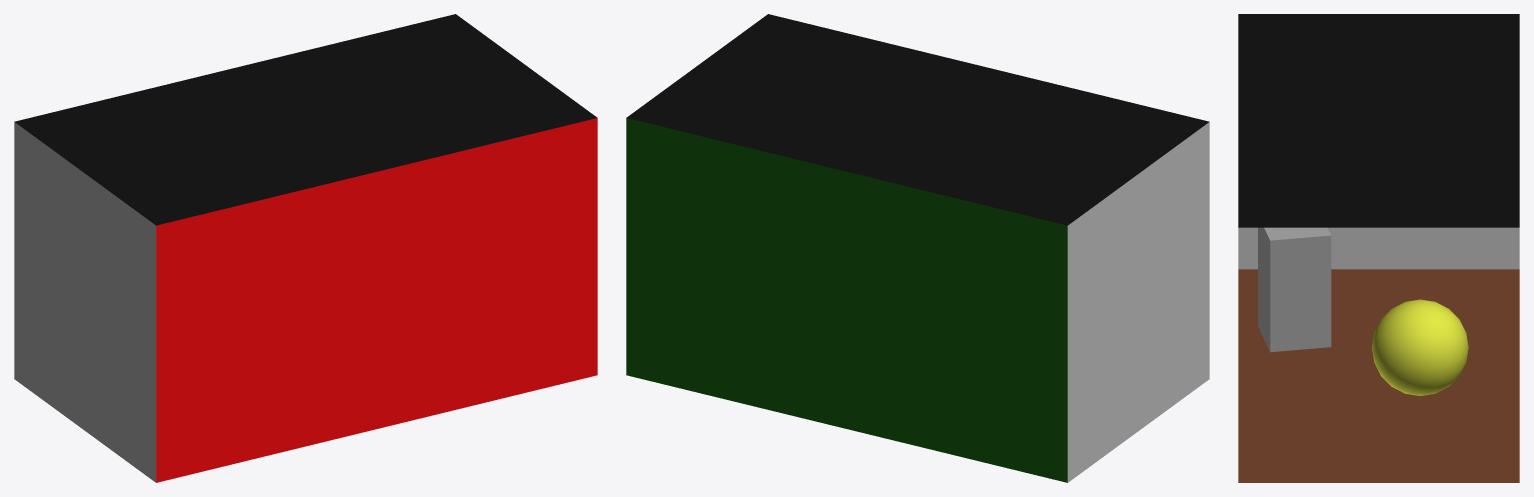
Rendered from room.obj.
3 renders of one model, left to right at view 1: azimuth 30°, elevation 25°; view 2: azimuth 150°, elevation 25°; view 3: azimuth 270°, elevation 25°, orthographic.
Visible parts, largest first — view 1: Cube.002_Cube.003, Cube.001_Cube.002, Cube.005_Cube.006; view 2: Cube.004_Cube.005, Cube.001_Cube.002, Cube.005_Cube.006; view 3: Cube.001_Cube.002, Cube_Cube.001, Cube.005_Cube.006, Cube.003_Cube.007, Icosphere.
Part boxes in pixels (bbox=[...]): Cube.002_Cube.003: bbox=[156, 118, 597, 482]; Cube.001_Cube.002: bbox=[14, 14, 597, 225]; Cube.005_Cube.006: bbox=[14, 122, 156, 482]; Cube.004_Cube.005: bbox=[626, 118, 1067, 482]; Cube.001_Cube.002: bbox=[626, 14, 1209, 225]; Cube.005_Cube.006: bbox=[1067, 122, 1209, 482]; Cube.001_Cube.002: bbox=[1238, 14, 1519, 227]; Cube_Cube.001: bbox=[1238, 269, 1519, 482]; Cube.005_Cube.006: bbox=[1238, 227, 1519, 269]; Cube.003_Cube.007: bbox=[1258, 227, 1331, 352]; Icosphere: bbox=[1372, 299, 1468, 395].
Size of the model in its own units: 7.3 by 4.11 by 4.06.
